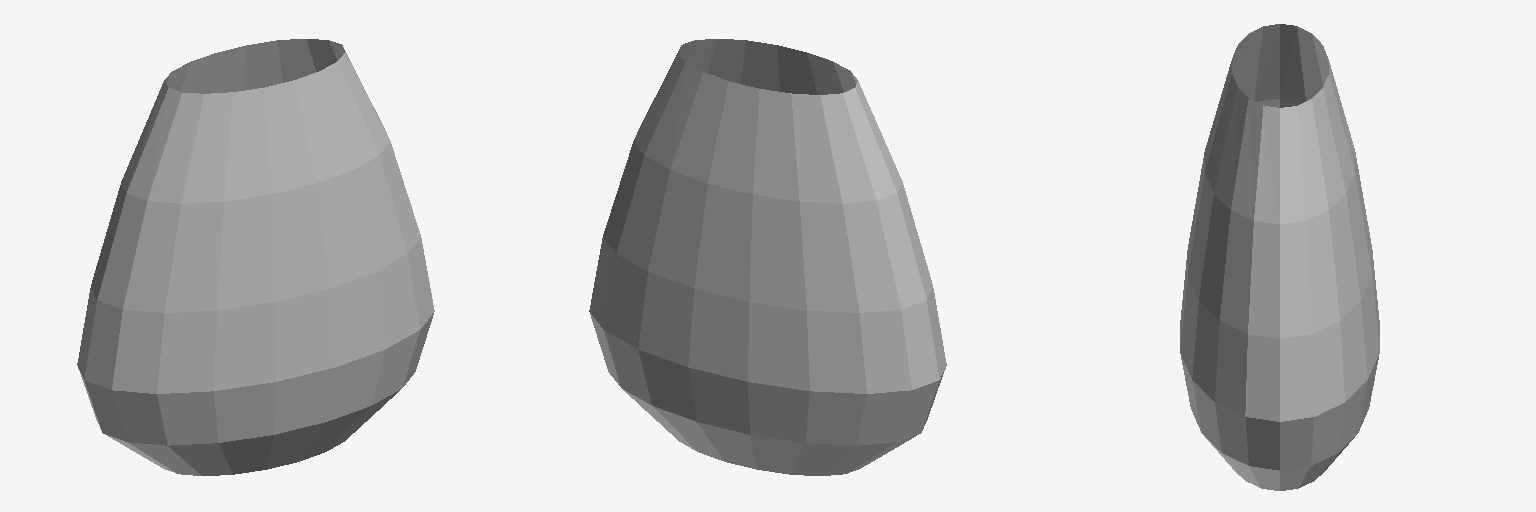
The model's file is Liquid.obj.
3 renders of one model, left to right at view 1: azimuth 30°, elevation 25°; view 2: azimuth 150°, elevation 25°; view 3: azimuth 270°, elevation 25°, orthographic.
Parts seen in each view (by area): view 1: Liquido_Cube.001; view 2: Liquido_Cube.001; view 3: Liquido_Cube.001.
Part boxes in pixels (bbox=[...]): Liquido_Cube.001: bbox=[77, 39, 434, 475]; Liquido_Cube.001: bbox=[589, 39, 946, 475]; Liquido_Cube.001: bbox=[1180, 24, 1379, 490].
Bounding box in the file's own units: 1.13 × 1.19 × 0.5671.